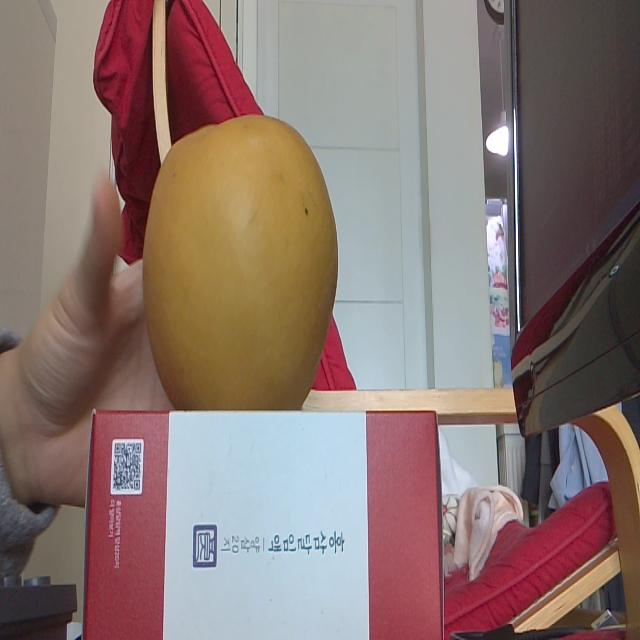pear: (141, 114, 339, 416)
